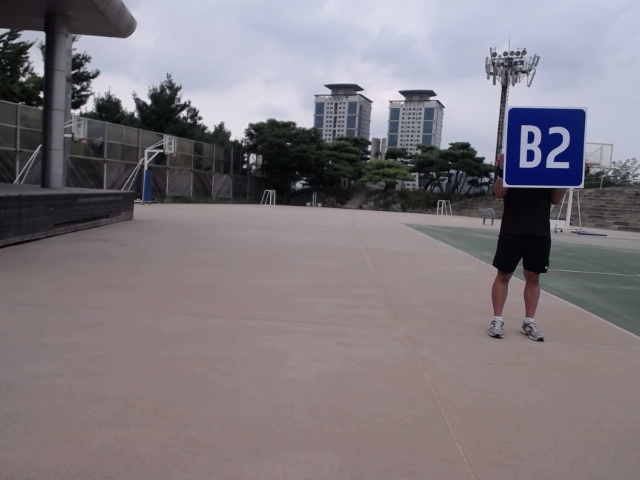delivery_b2: (504, 105, 588, 191)
